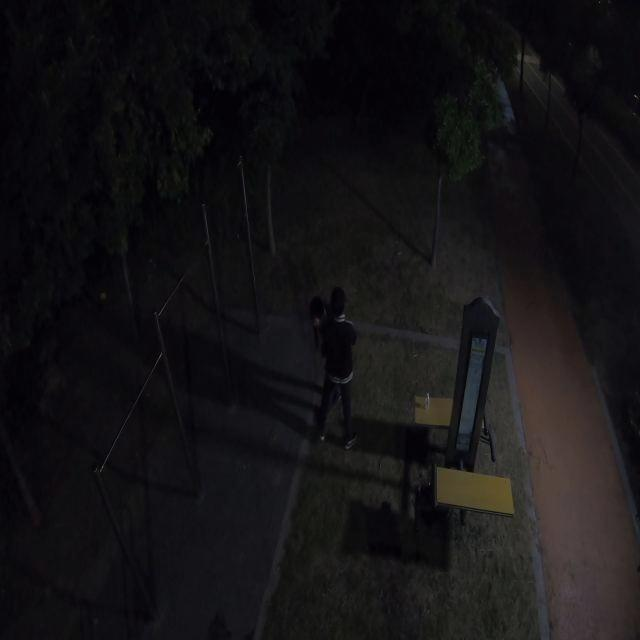fight: (308, 288, 364, 423)
